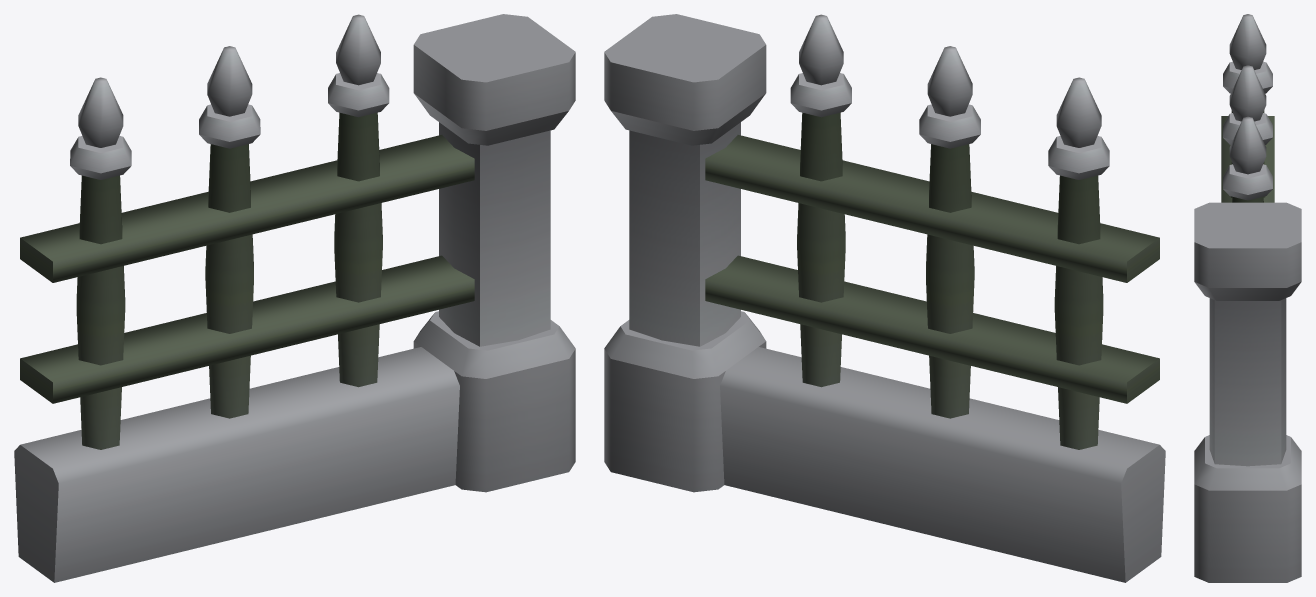
Rendered from iron-fence-border-column.glb.
The picture shows the model from 3 angles, left to right: view 1: azimuth 30°, elevation 25°; view 2: azimuth 150°, elevation 25°; view 3: azimuth 270°, elevation 25°; orthographic projection. The views are drawn at different scales.
Parts seen in each view (by area): view 1: iron-fence-border-column; view 2: iron-fence-border-column; view 3: iron-fence-border-column.
Boxes of the visible parts, box(x1,y1,x2,y2) form: iron-fence-border-column: box(14, 14, 575, 582); iron-fence-border-column: box(604, 14, 1165, 582); iron-fence-border-column: box(1194, 14, 1301, 582).
Size of the model in its own units: 1.5 by 1.32 by 0.3323.
1 material, 1 textured.
